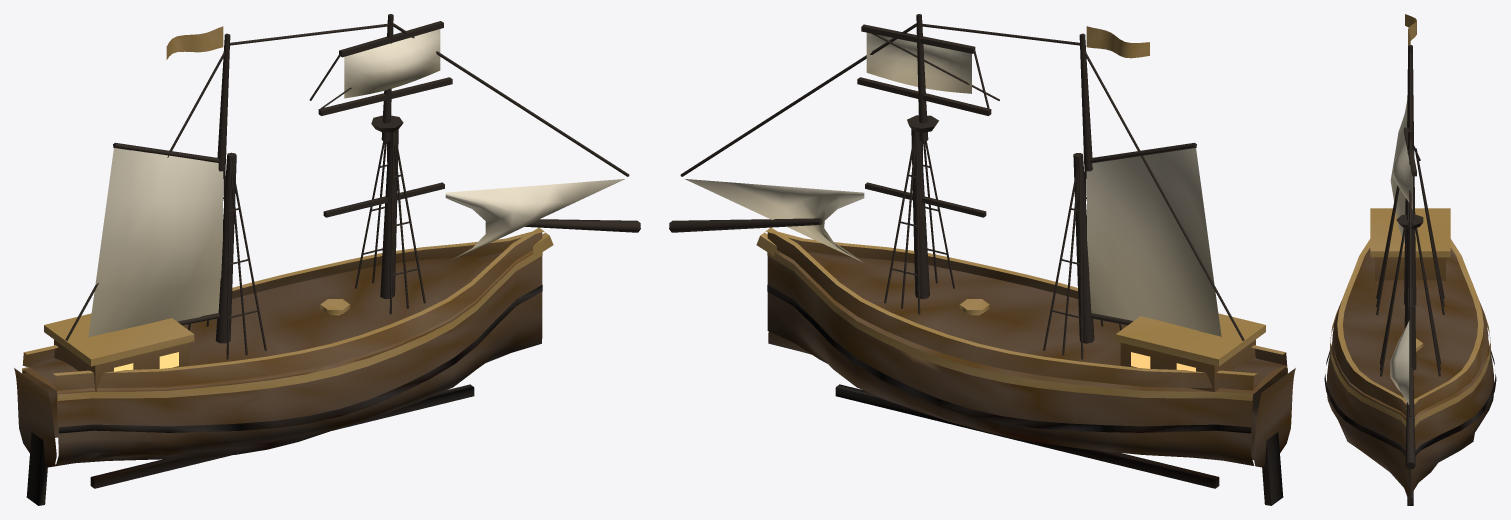
Rendered from garden-hero-brigantine.glb.
The picture shows the model from 3 angles, left to right: view 1: azimuth 30°, elevation 25°; view 2: azimuth 150°, elevation 25°; view 3: azimuth 270°, elevation 25°; orthographic projection. The views are drawn at different scales.
Visible parts, largest first — view 1: wood-hull, sail-hull, spar-hull; view 2: wood-hull, sail-hull, spar-hull; view 3: wood-hull, spar-hull, sail-hull.
Part boxes in pixels (bbox=[...]): wood-hull: bbox=[14, 26, 553, 505]; sail-hull: bbox=[88, 29, 624, 336]; spar-hull: bbox=[65, 14, 640, 359]; wood-hull: bbox=[756, 26, 1295, 505]; sail-hull: bbox=[685, 32, 1221, 336]; spar-hull: bbox=[669, 14, 1244, 359]; wood-hull: bbox=[1324, 14, 1496, 505]; spar-hull: bbox=[1376, 45, 1444, 469]; sail-hull: bbox=[1390, 100, 1412, 404].
Bounding box in the file's own units: 12.65 × 8.54 × 3.63.
